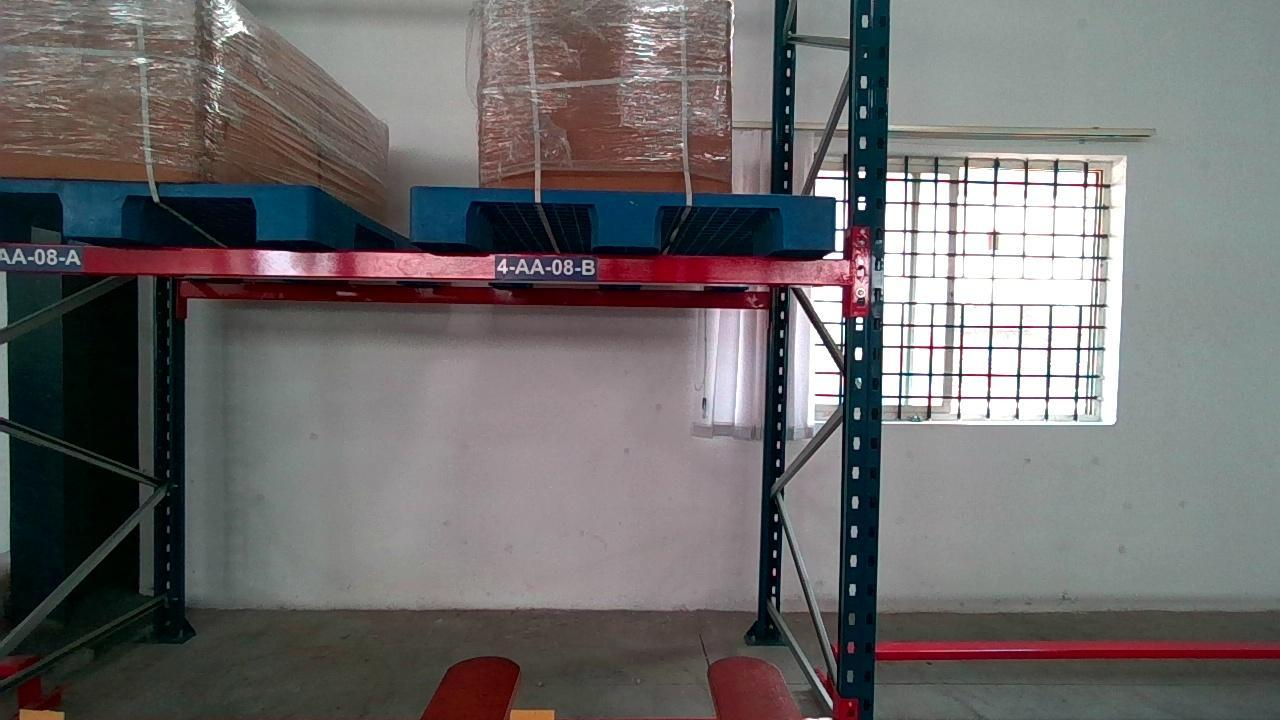h_rack: (5, 238, 856, 293)
small_pallet: (409, 190, 832, 254), (4, 176, 309, 238)
